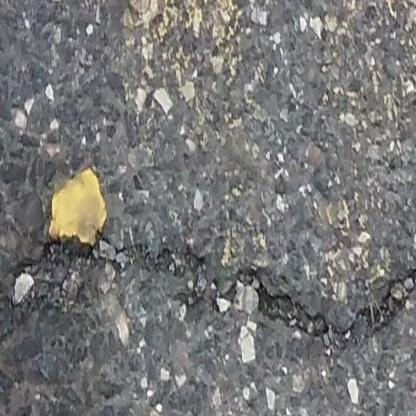Cracks: (0, 222, 416, 379)
